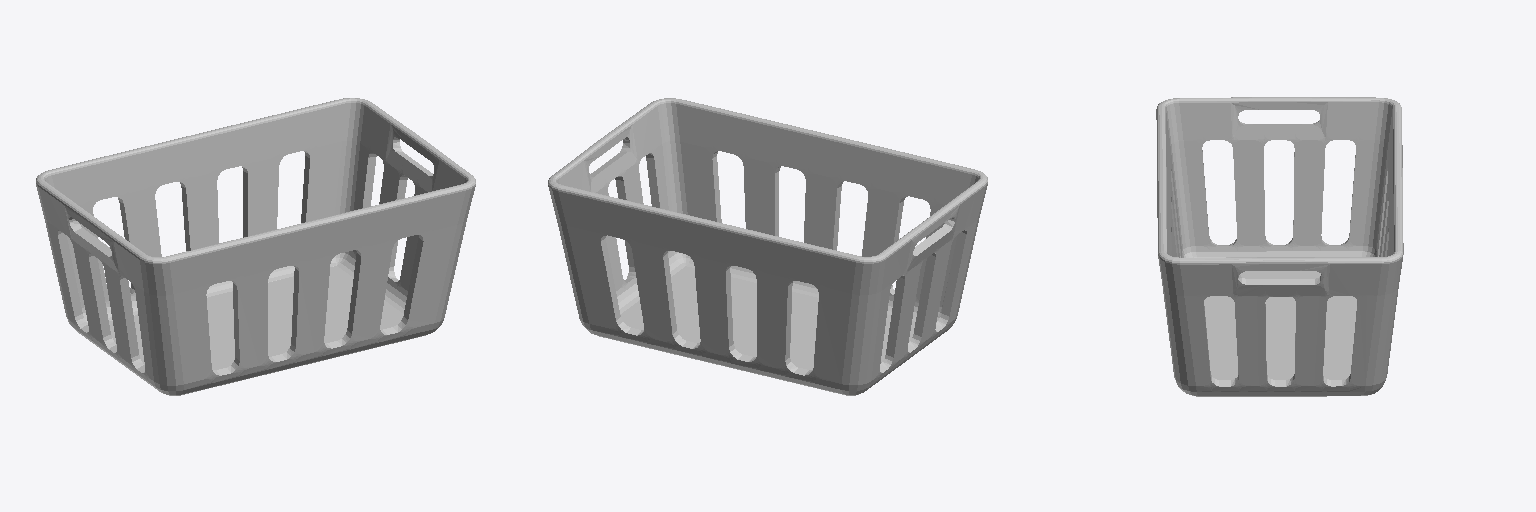
File: plastic_basket_OBJ.obj
3 renders of one model, left to right at view 1: azimuth 30°, elevation 25°; view 2: azimuth 150°, elevation 25°; view 3: azimuth 270°, elevation 25°, orthographic.
Parts seen in each view (by area): view 1: plastic basket; view 2: plastic basket; view 3: plastic basket.
Boxes of the visible parts, <box> form: plastic basket: <box>36,98,475,395</box>; plastic basket: <box>548,98,987,395</box>; plastic basket: <box>1156,97,1403,396</box>.
Size of the model in its own units: 0.4054 by 0.1811 by 0.2582.